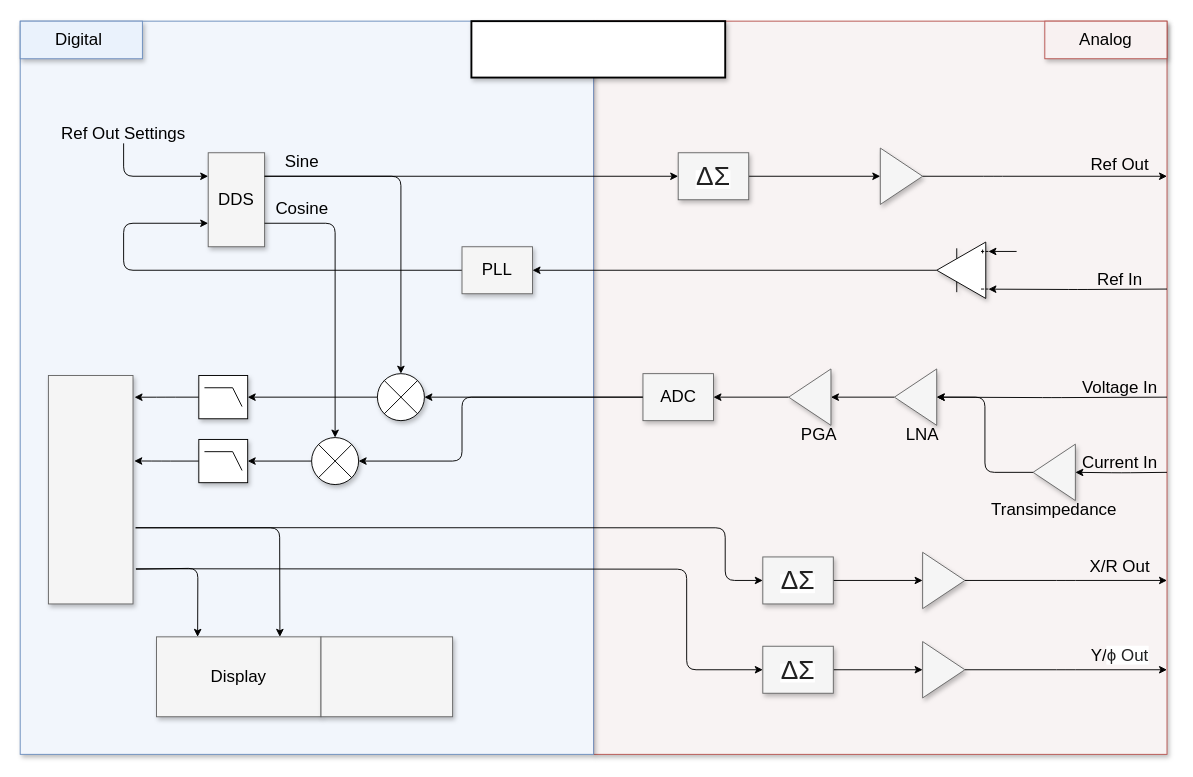
Some shapes in this 1193 by 777 pixel diagram are drawn without their labels. Here are the shapes that lost their labels. From the top down, the centre of each, then its label:
the point at 598,50: SingularitySurfer DSP Lock-In Amplifier
the point at 963,271: Comparator
the point at 91,491: I/Q or R/ϕ
the point at 387,677: Buttons/Settings Menu
